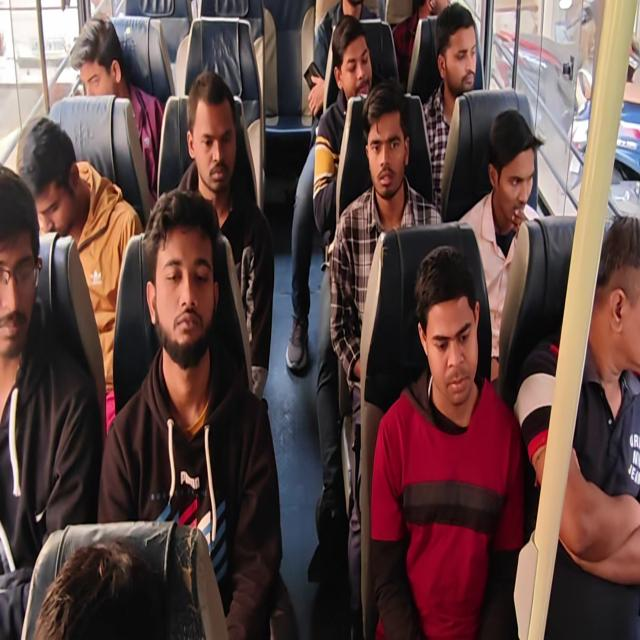person: (1, 2, 638, 638), (96, 187, 287, 638), (328, 79, 442, 635), (369, 244, 525, 638), (513, 213, 639, 638), (0, 164, 104, 638), (18, 116, 143, 434), (173, 69, 274, 400), (285, 14, 374, 372), (456, 108, 544, 384), (70, 16, 164, 195), (312, 14, 373, 242), (33, 538, 167, 638), (422, 2, 478, 212), (304, 0, 381, 122), (391, 0, 449, 89)
